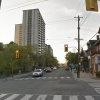Crosswalk: (6, 80, 92, 100)
